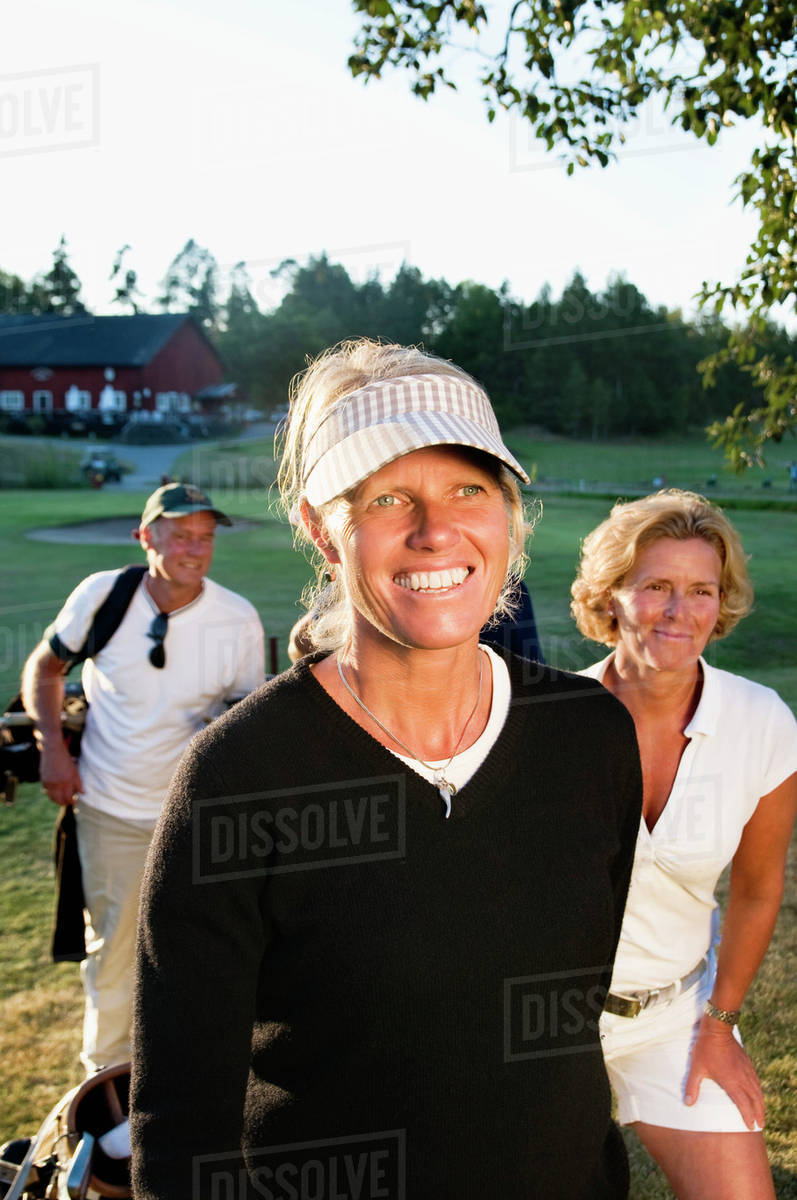no_mask: (275, 337, 533, 670), (571, 478, 744, 682), (133, 477, 232, 608)
